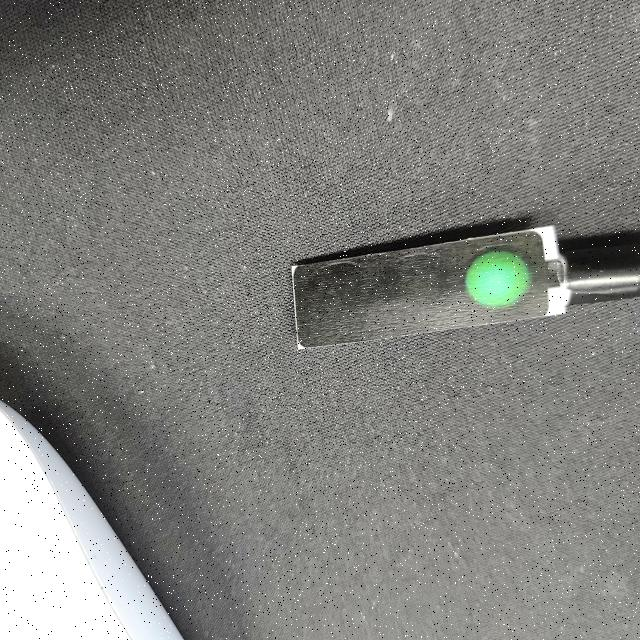traffic light: (294, 220, 573, 346)
